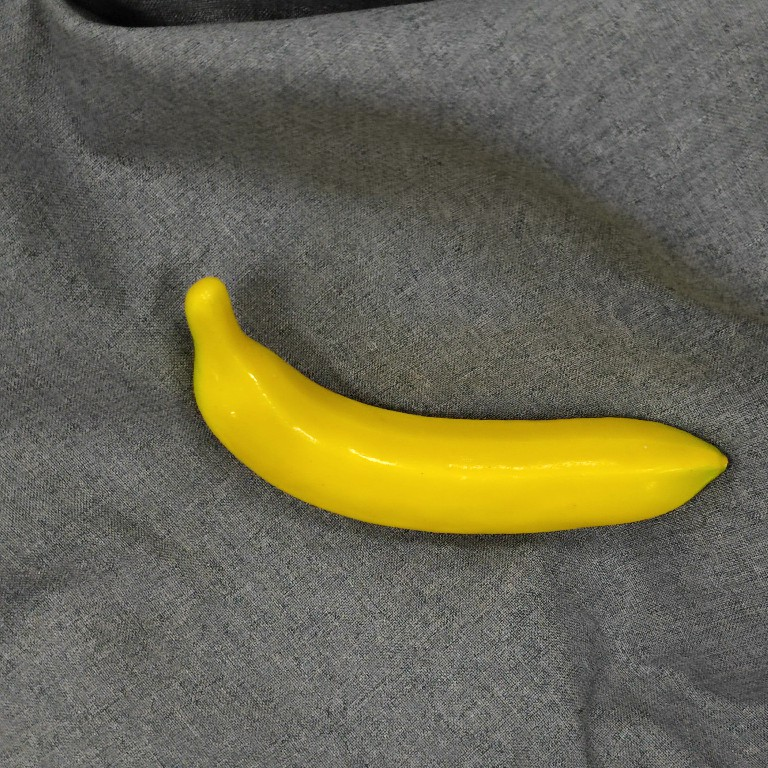fruit_banana: (179, 270, 733, 536)
